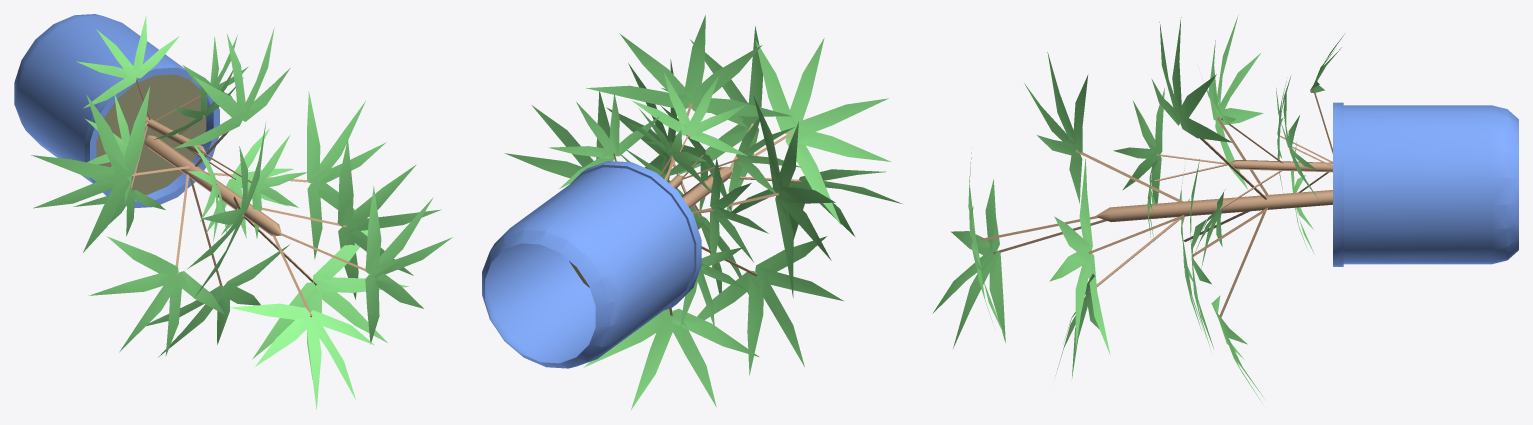
The model's file is plant.dae.
The picture shows the model from 3 angles, left to right: view 1: azimuth 30°, elevation 25°; view 2: azimuth 150°, elevation 25°; view 3: azimuth 270°, elevation 25°; orthographic projection. The views are drawn at different scales.
Visible parts, largest first — view 1: node (×4); view 2: node (×3); view 3: node (×3).
Boxes of the visible parts, x1,y1,x2,y2 form: node (×4): [14, 14, 452, 409]; node (×3): [482, 15, 902, 409]; node (×3): [932, 15, 1518, 403].
Bounding box in the file's own units: 0.7841 × 0.7853 × 1.1.
